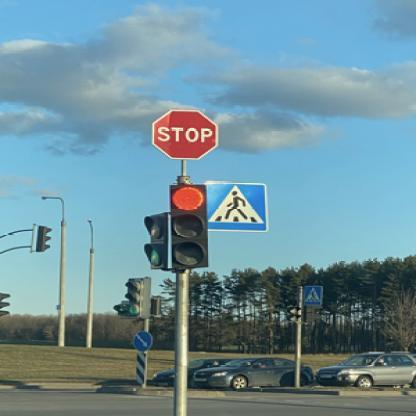Red Light: (170, 182, 212, 271)
Stop: (152, 109, 220, 160)
